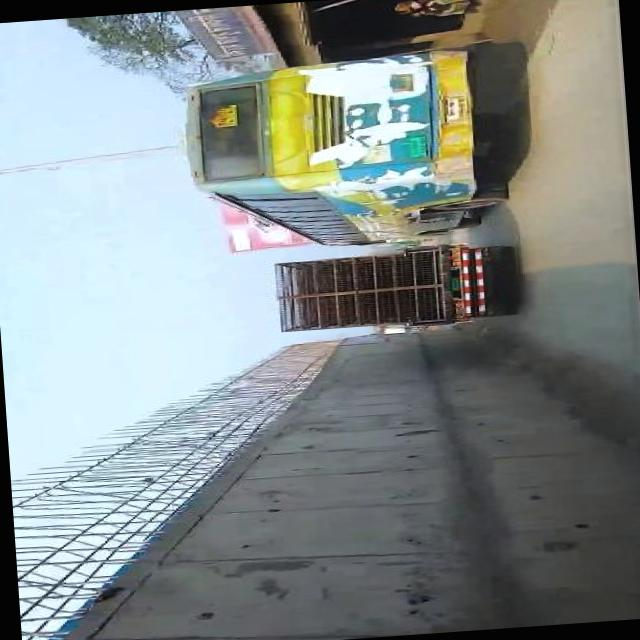bus: (174, 48, 500, 254)
truck: (268, 242, 510, 333)
